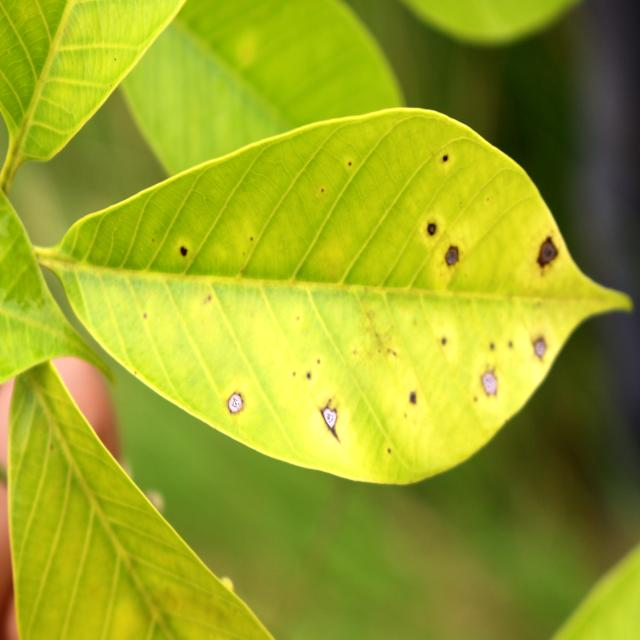Colletotrichum: (536, 237, 558, 268), (322, 408, 337, 429), (228, 392, 242, 413), (445, 247, 459, 266), (428, 223, 436, 235), (180, 246, 188, 256)
